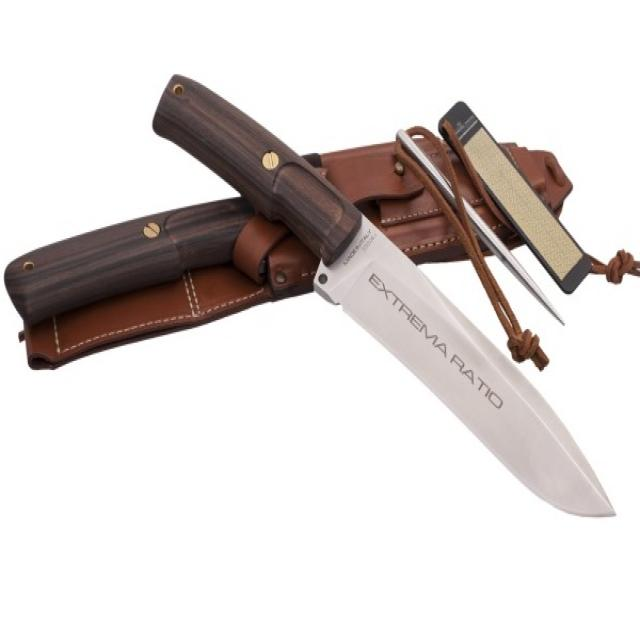knife: (152, 62, 623, 531)
